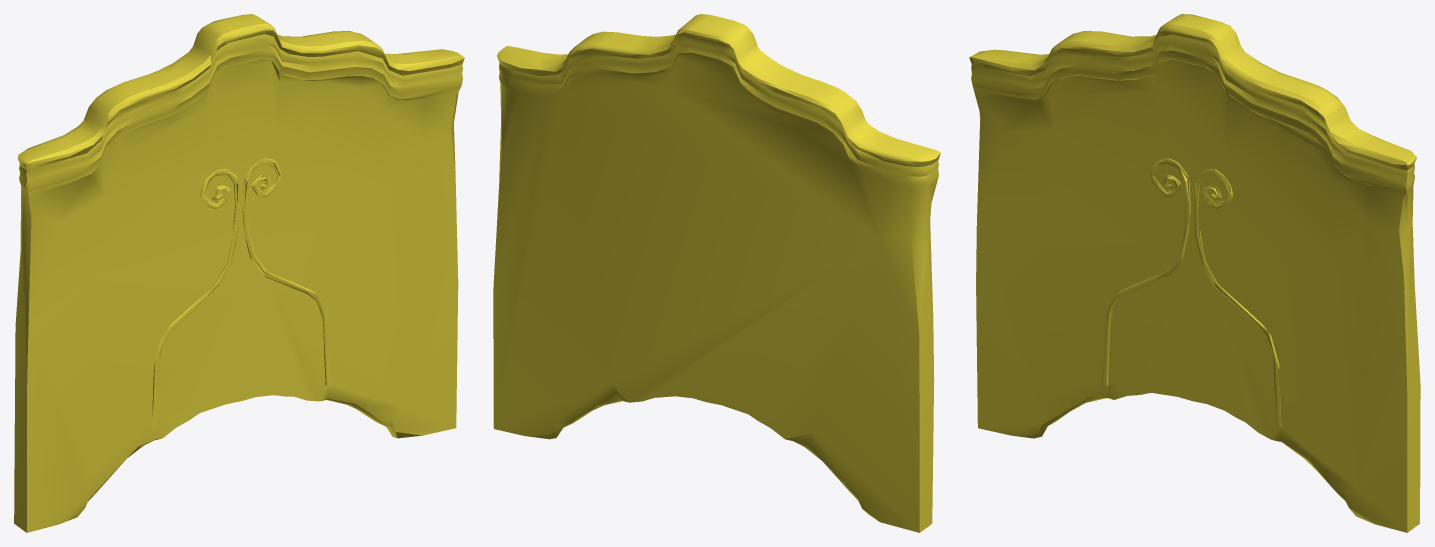
File: ParteSuperiorFrontal.Low.fbx
3 views of the same model, side by side, from view 1: azimuth 30°, elevation 25°; view 2: azimuth 150°, elevation 25°; view 3: azimuth 330°, elevation 25° (orthographic).
Parts seen in each view (by area): view 1: ParteSuperiorFrontal.Low; view 2: ParteSuperiorFrontal.Low; view 3: ParteSuperiorFrontal.Low.
Part boxes in pixels (<box>): ParteSuperiorFrontal.Low: <box>14,14,464,532</box>; ParteSuperiorFrontal.Low: <box>493,14,940,532</box>; ParteSuperiorFrontal.Low: <box>969,14,1420,532</box>.
Bounding box in the file's own units: 610 × 604 × 48.33.
